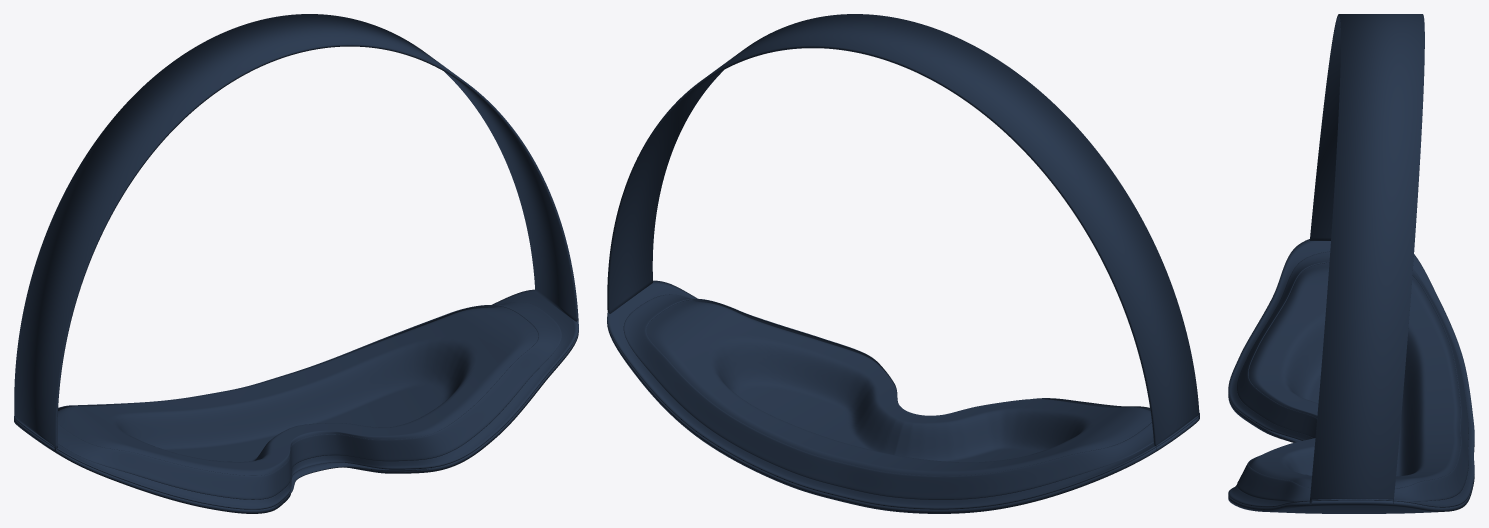
File: Contour-A-midnight.glb
The picture shows the model from 3 angles, left to right: view 1: azimuth 30°, elevation 25°; view 2: azimuth 150°, elevation 25°; view 3: azimuth 270°, elevation 25°; orthographic projection. The views are drawn at different scales.
Parts seen in each view (by area): view 1: 02_Recessed_continuous_eye_liner, 05_Wide_soft_band_no_hard_buckle, 07_Thin_continuous_light_seal_lip, 01_Curved_fabric_envelope; view 2: 02_Recessed_continuous_eye_liner, 05_Wide_soft_band_no_hard_buckle, 07_Thin_continuous_light_seal_lip, 01_Curved_fabric_envelope; view 3: 05_Wide_soft_band_no_hard_buckle, 02_Recessed_continuous_eye_liner, 07_Thin_continuous_light_seal_lip, 01_Curved_fabric_envelope.
Part boxes in pixels (left/top/right/bottom): 02_Recessed_continuous_eye_liner: left=14, top=289, right=578, bottom=509; 05_Wide_soft_band_no_hard_buckle: left=14, top=14, right=578, bottom=451; 07_Thin_continuous_light_seal_lip: left=57, top=302, right=561, bottom=499; 01_Curved_fabric_envelope: left=14, top=329, right=578, bottom=513; 02_Recessed_continuous_eye_liner: left=607, top=280, right=1199, bottom=509; 05_Wide_soft_band_no_hard_buckle: left=607, top=14, right=1199, bottom=450; 07_Thin_continuous_light_seal_lip: left=623, top=294, right=1153, bottom=499; 01_Curved_fabric_envelope: left=607, top=320, right=1199, bottom=513; 05_Wide_soft_band_no_hard_buckle: left=1309, top=14, right=1424, bottom=504; 02_Recessed_continuous_eye_liner: left=1228, top=239, right=1474, bottom=507; 07_Thin_continuous_light_seal_lip: left=1237, top=251, right=1468, bottom=501; 01_Curved_fabric_envelope: left=1228, top=394, right=1474, bottom=513.
Size of the model in its own units: 0.24 by 0.179 by 0.094.
